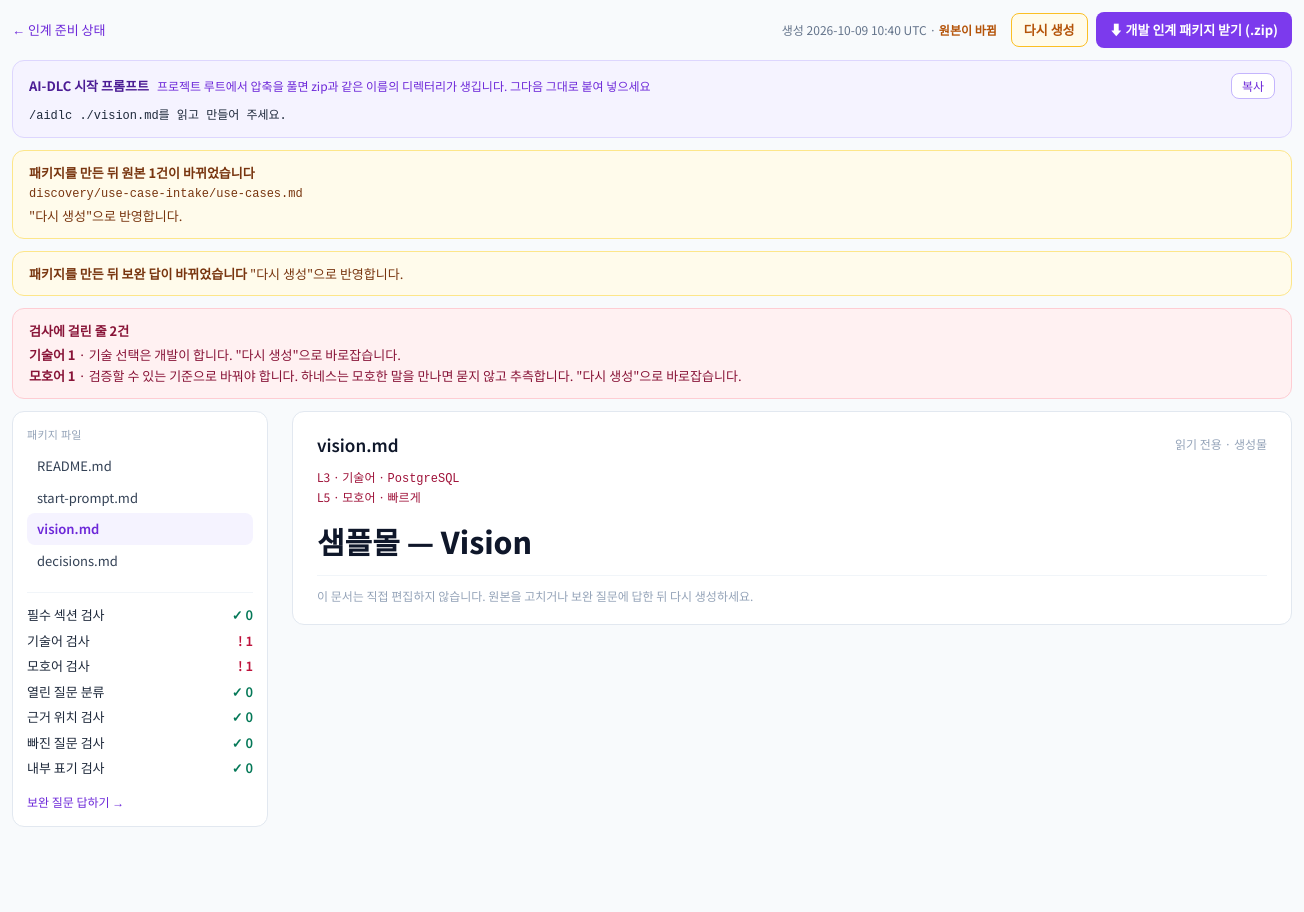
PackagePanel › opens on the vision document, with findings and what changed since it was built
Expected: the heading "샘플몰 — Vision" is shown, [317, 519, 532, 563]
Expected: the text "검사에 걸린 줄 2건" is shown, [29, 321, 129, 340]
Click the button "decisions.md" at (140, 560), box [27, 544, 253, 576]
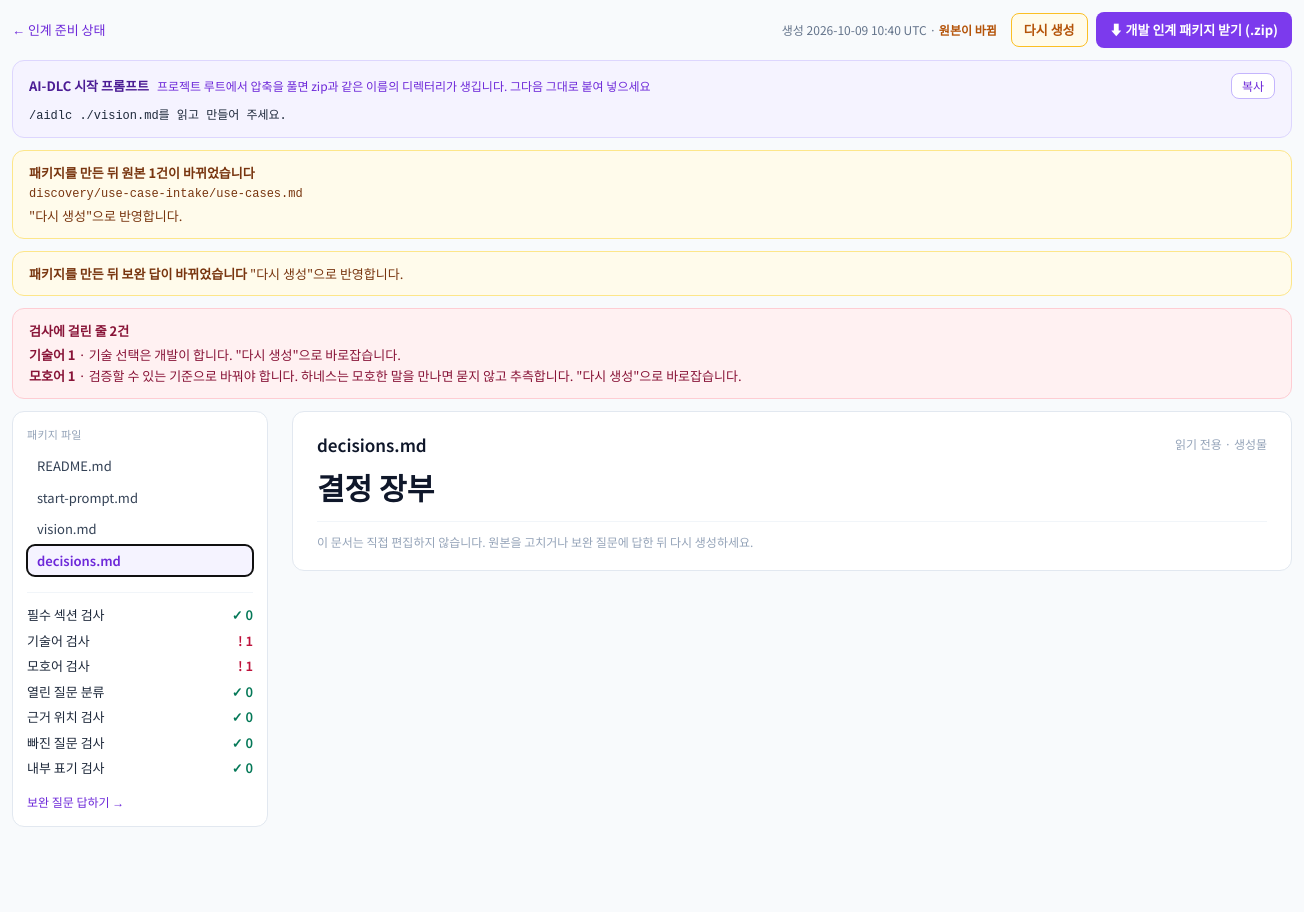
Expected: the heading "결정 장부" is shown, [317, 465, 434, 509]
